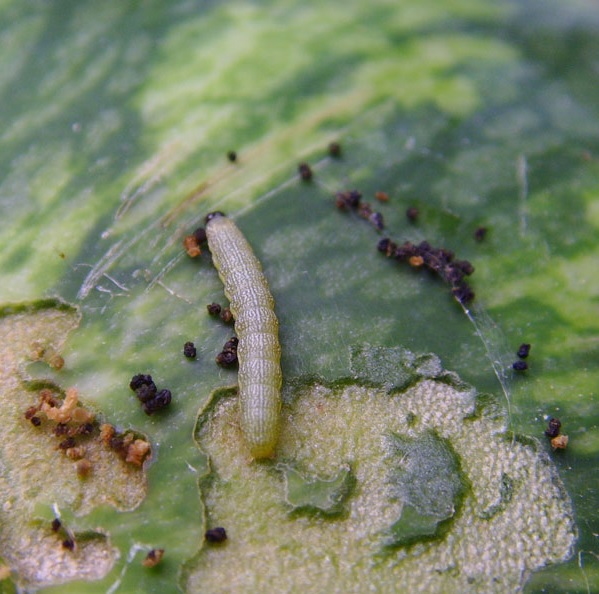Armyworm: (193, 204, 308, 470)
